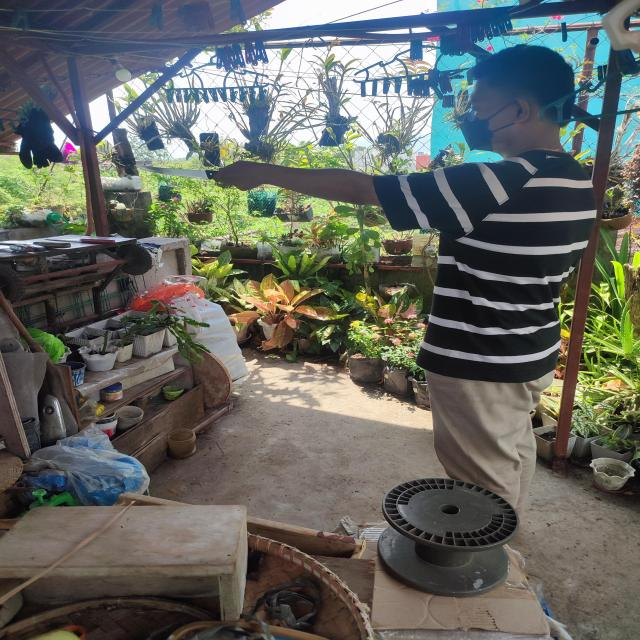knife: (133, 164, 220, 182)
